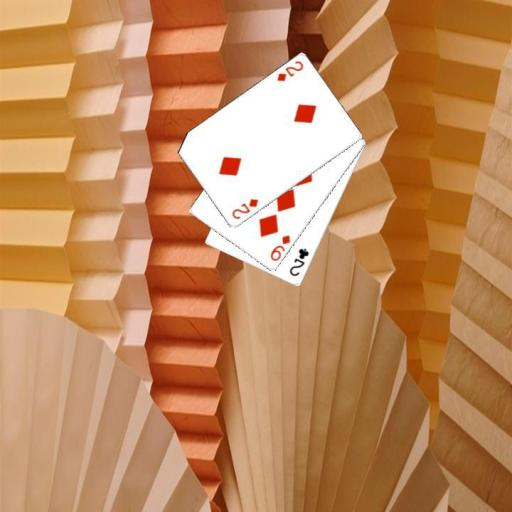2C: (287, 245, 311, 278)
2D: (228, 196, 260, 221), (274, 58, 305, 83)
9D: (268, 232, 292, 263)
